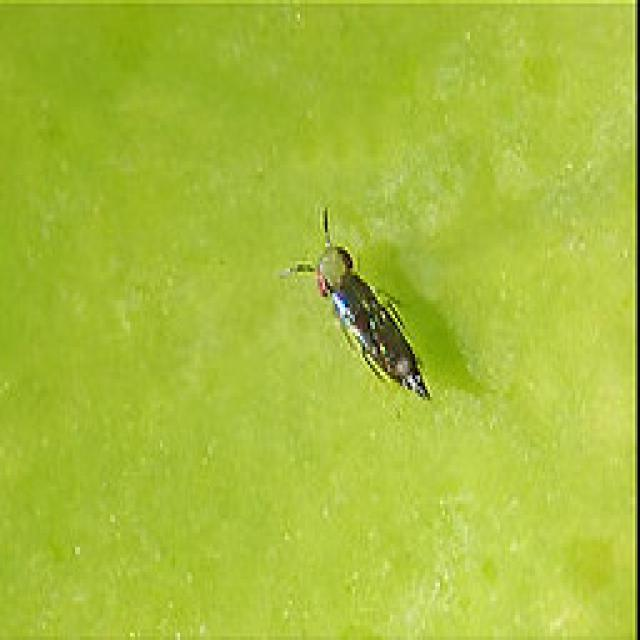Guepe: (283, 191, 452, 427)
